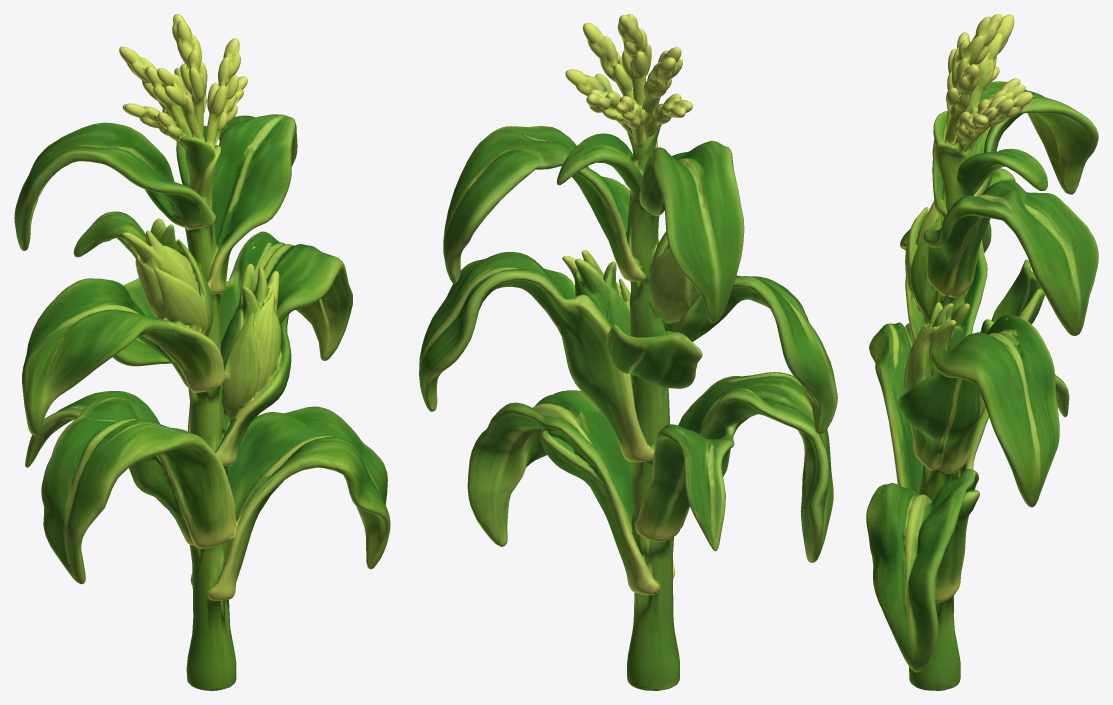
File: corn-growing.glb
The picture shows the model from 3 angles, left to right: view 1: azimuth 30°, elevation 25°; view 2: azimuth 150°, elevation 25°; view 3: azimuth 270°, elevation 25°; orthographic projection. The views are drawn at different scales.
Bounding box in the file's own units: 1.1 × 1.9 × 0.6024.
Materials: 1 (1 with a texture image).
